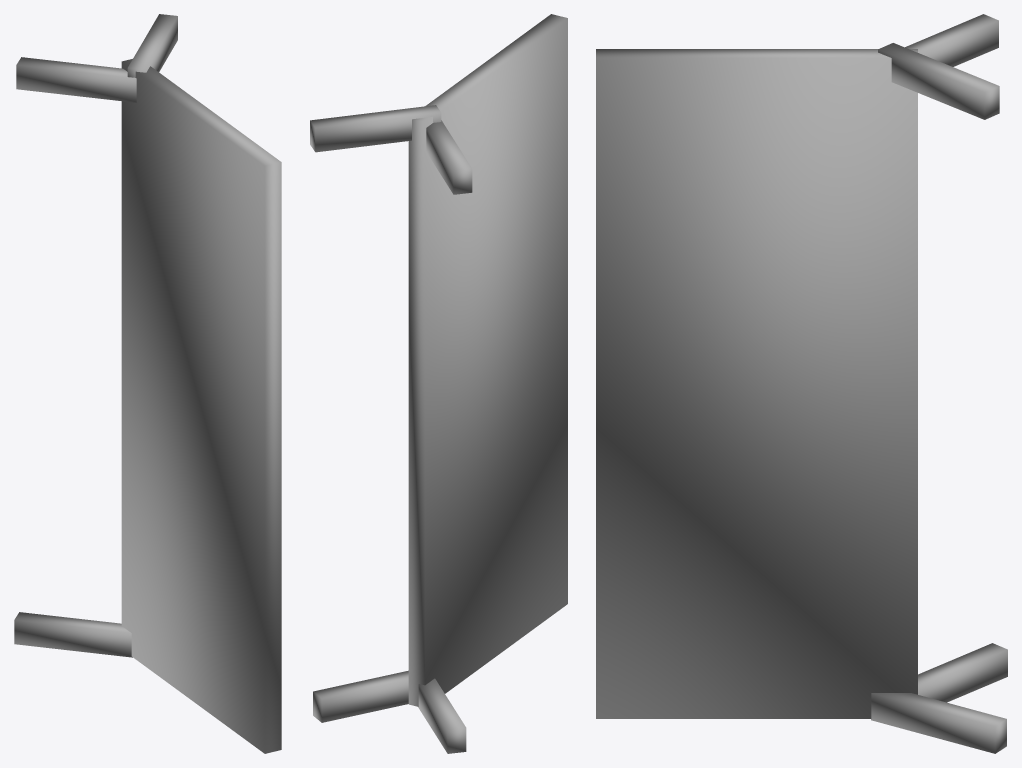
File: aws_Fence_02_collision.obj
The picture shows the model from 3 angles, left to right: view 1: azimuth 30°, elevation 25°; view 2: azimuth 150°, elevation 25°; view 3: azimuth 270°, elevation 25°; orthographic projection. The views are drawn at different scales.
Bounding box in the file's own units: 64.3 × 224 × 126.
